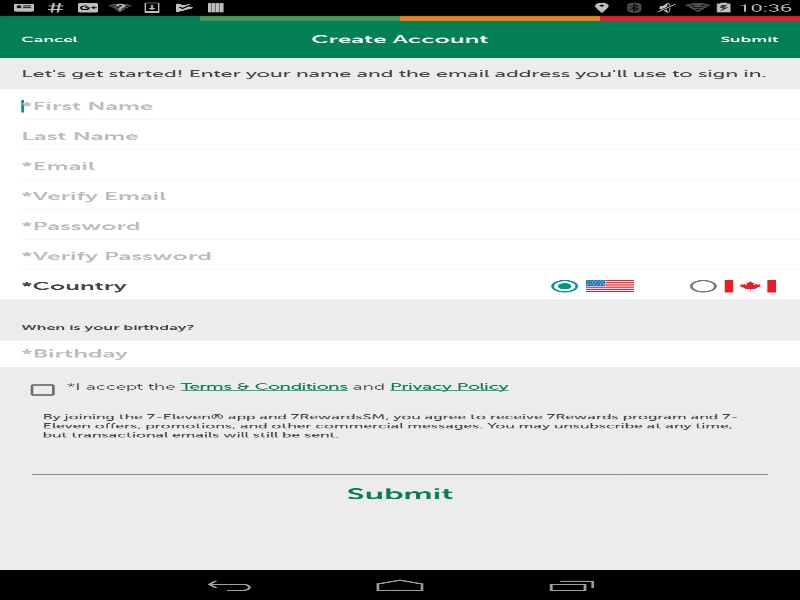Input: (21, 93, 800, 119), (21, 123, 800, 149), (21, 153, 800, 179), (21, 183, 800, 209), (21, 213, 800, 239), (21, 243, 800, 269)
